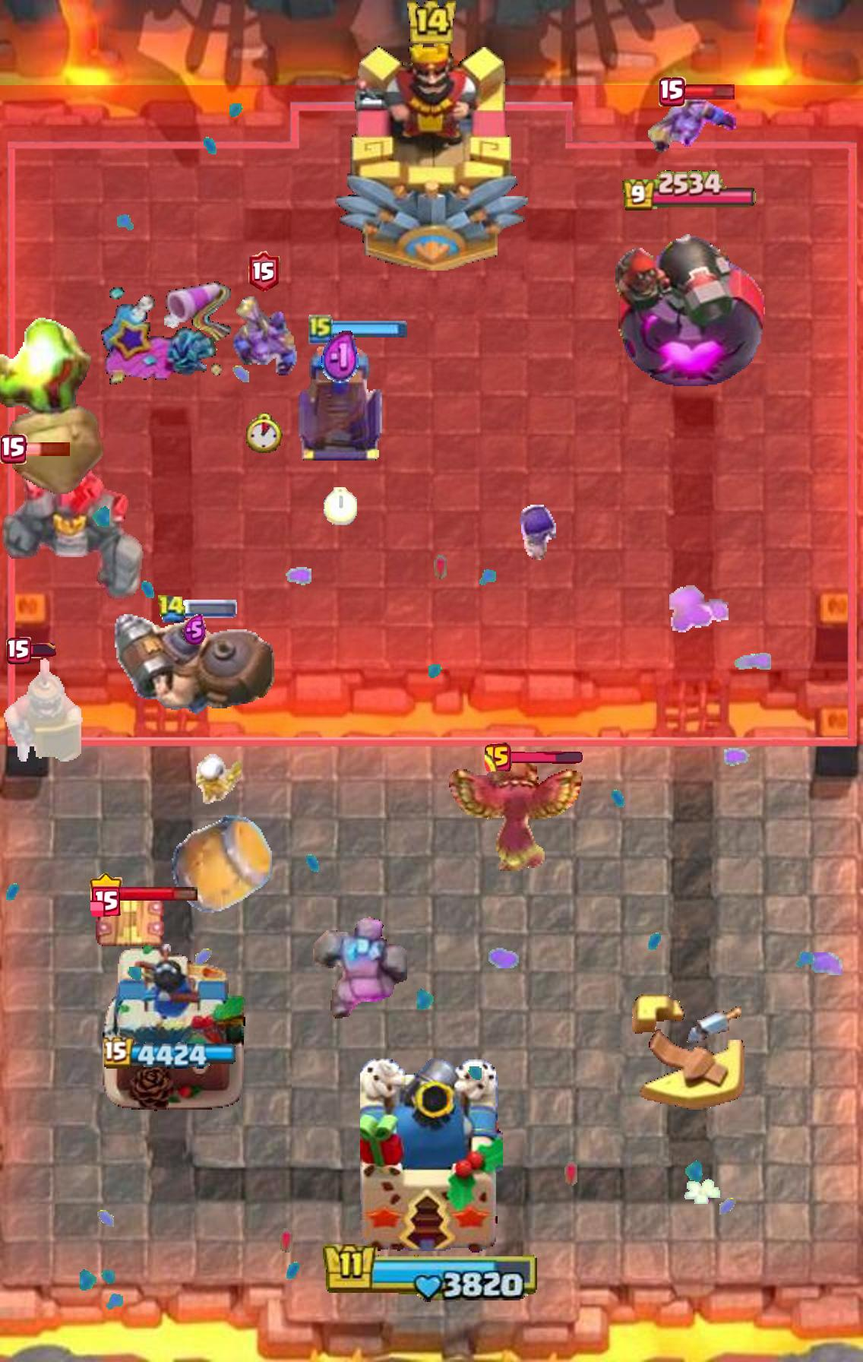bar: (118, 886, 198, 903), (509, 751, 582, 763), (682, 84, 735, 100), (17, 442, 71, 457), (27, 643, 56, 658)
bar-level: (90, 873, 123, 917), (248, 251, 280, 292), (659, 77, 686, 107), (0, 434, 27, 464), (485, 742, 512, 772), (6, 637, 31, 664)
